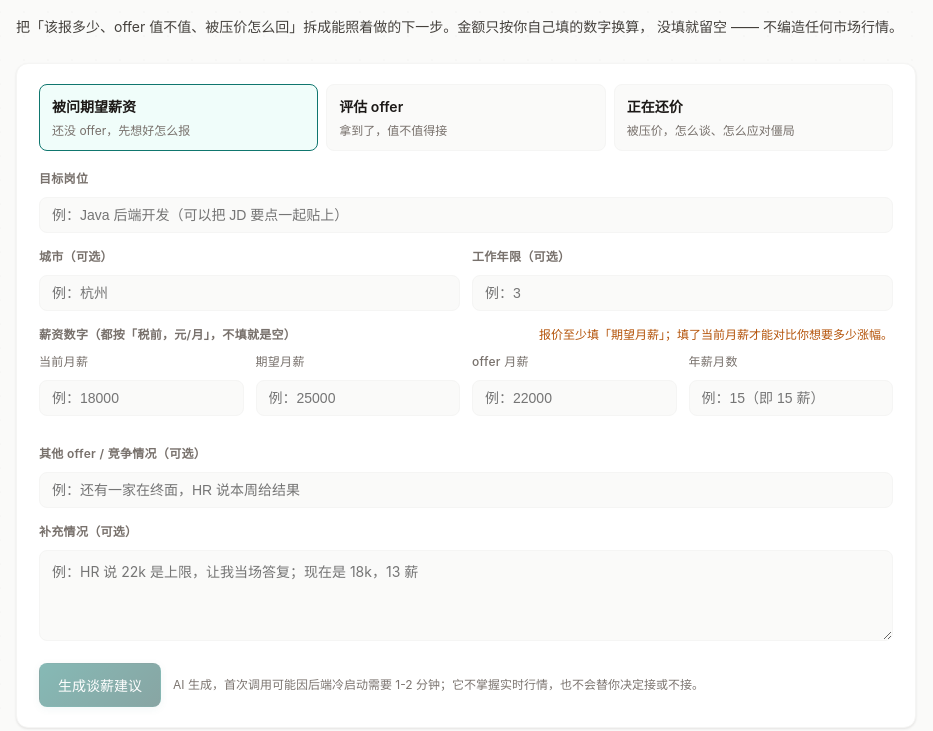
Test case: SalaryView —— 谈薪助手 › 金额全部算不出：显示「填数字才能算」的说明，绝不当成 0
The image size is (933, 731).
Type "Java 后端" into the field with id "salary-job".
click(466, 215); type("Java 后端")  # box [39,197,893,233]
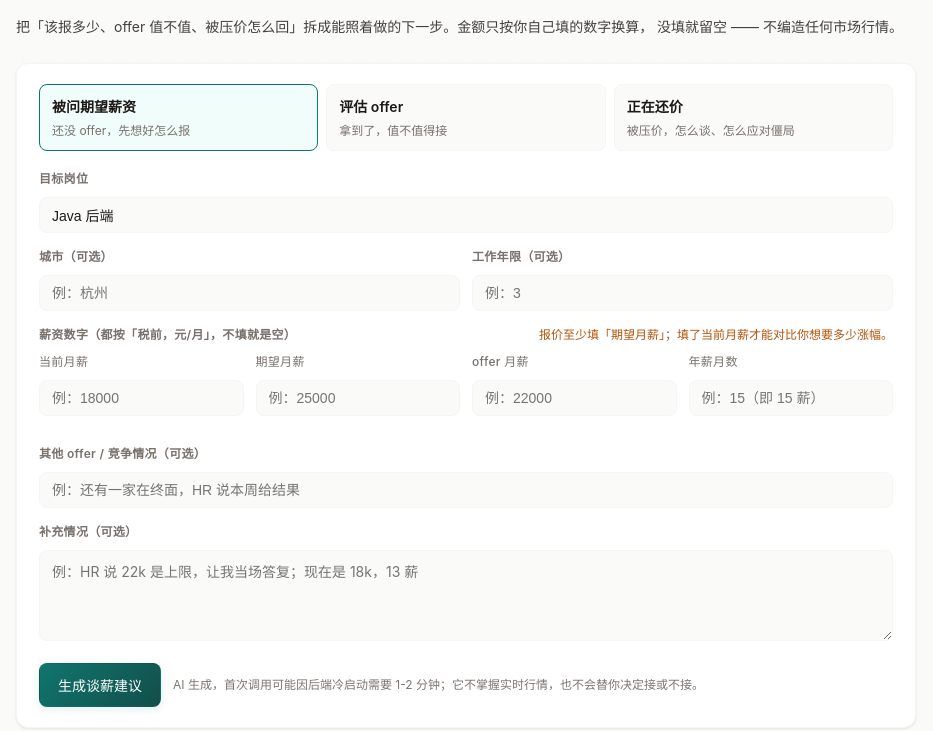
Click the button "生成谈薪建议".
click(100, 685)  # box [39,663,161,707]
(page scrolled)
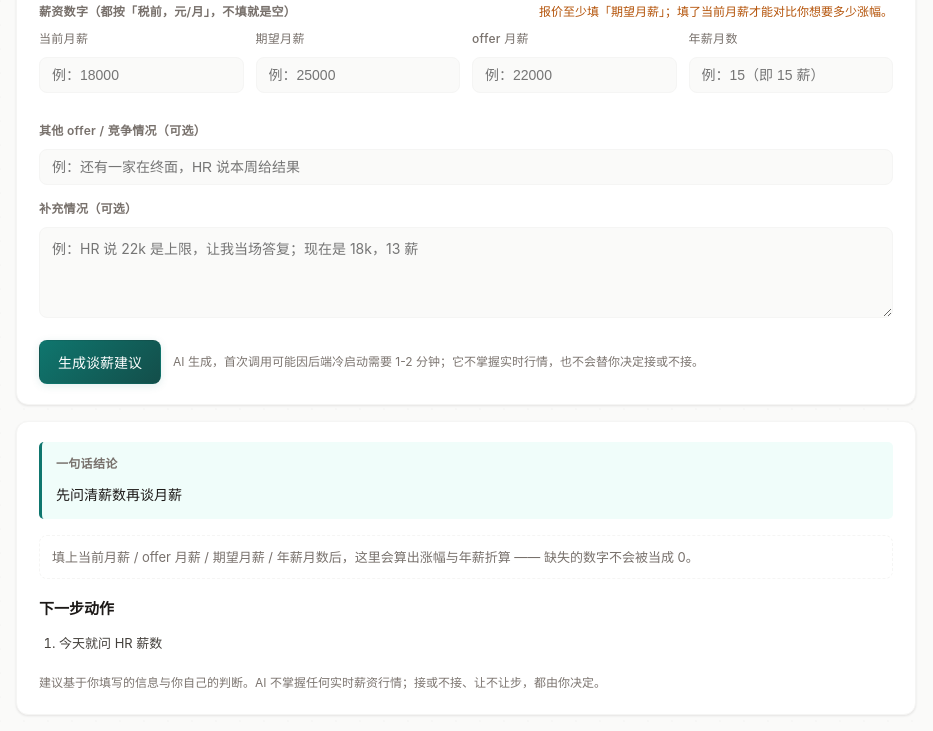
Expected: the text with class "numbers-hint" shows "缺失的数字不会被当成 0", [52,549,699,565]
